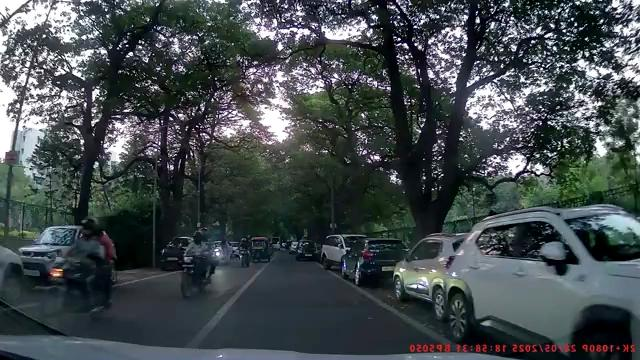motorcycle_with_helmet: (51, 217, 118, 316), (178, 228, 217, 298)
